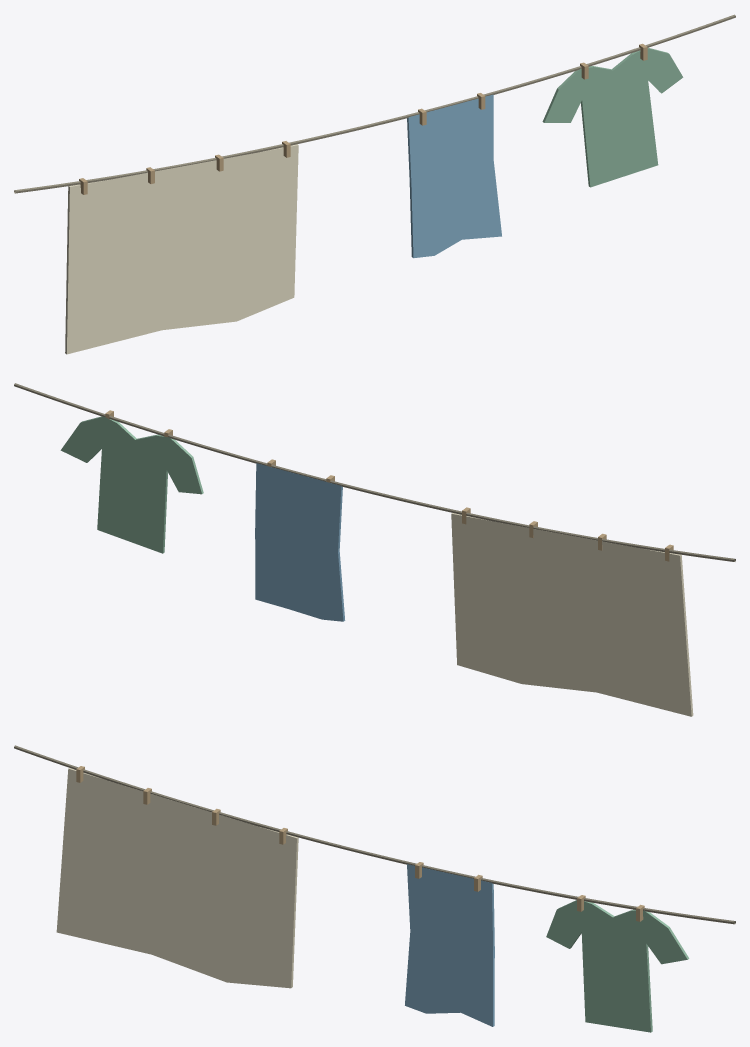
Rendered from courtyard-sheets-line.glb.
The picture shows the model from 3 angles, top to bottom: view 1: azimuth 30°, elevation 25°; view 2: azimuth 150°, elevation 25°; view 3: azimuth 330°, elevation 25°; orthographic projection.
Visible parts, largest first — view 1: Cloth_Sheet_0, Cloth_Towel_1, Cloth_Tee_2, Fixed clothesline; view 2: Cloth_Sheet_0, Cloth_Towel_1, Cloth_Tee_2, Fixed clothesline; view 3: Cloth_Sheet_0, Cloth_Towel_1, Cloth_Tee_2, Fixed clothesline.
Boxes of the visible parts, left/top/right/bottom form: Cloth_Sheet_0: left=65, top=144, right=298, bottom=354; Cloth_Towel_1: left=407, top=94, right=501, bottom=258; Cloth_Tee_2: left=542, top=47, right=683, bottom=187; Fixed clothesline: left=14, top=14, right=735, bottom=193; Cloth_Sheet_0: left=451, top=513, right=693, bottom=716; Cloth_Towel_1: left=255, top=463, right=345, bottom=621; Cloth_Tee_2: left=60, top=416, right=203, bottom=553; Fixed clothesline: left=14, top=383, right=735, bottom=561; Cloth_Sheet_0: left=56, top=768, right=298, bottom=988; Cloth_Towel_1: left=405, top=864, right=494, bottom=1026; Cloth_Tee_2: left=546, top=900, right=689, bottom=1032; Fixed clothesline: left=14, top=745, right=735, bottom=924.
Size of the model in its own units: 4.4 by 1.05 by 0.096.
